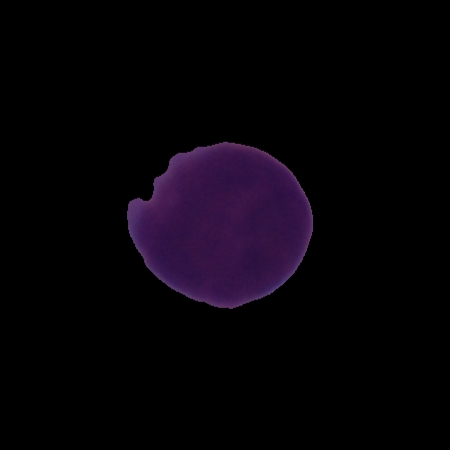ALL: (124, 139, 317, 311)
